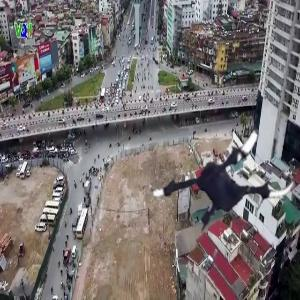drone: (151, 101, 300, 250)
